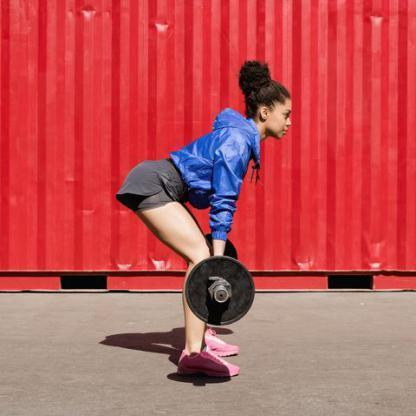barbell: (181, 230, 256, 328)
